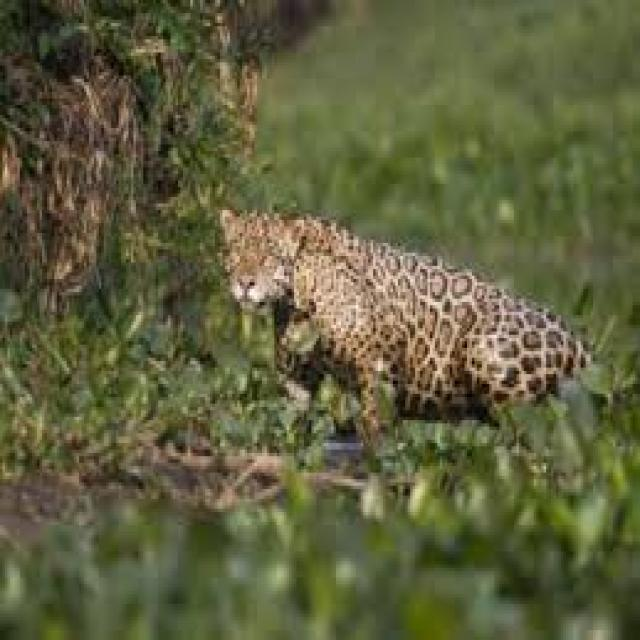Jaguar: (207, 177, 640, 426)
